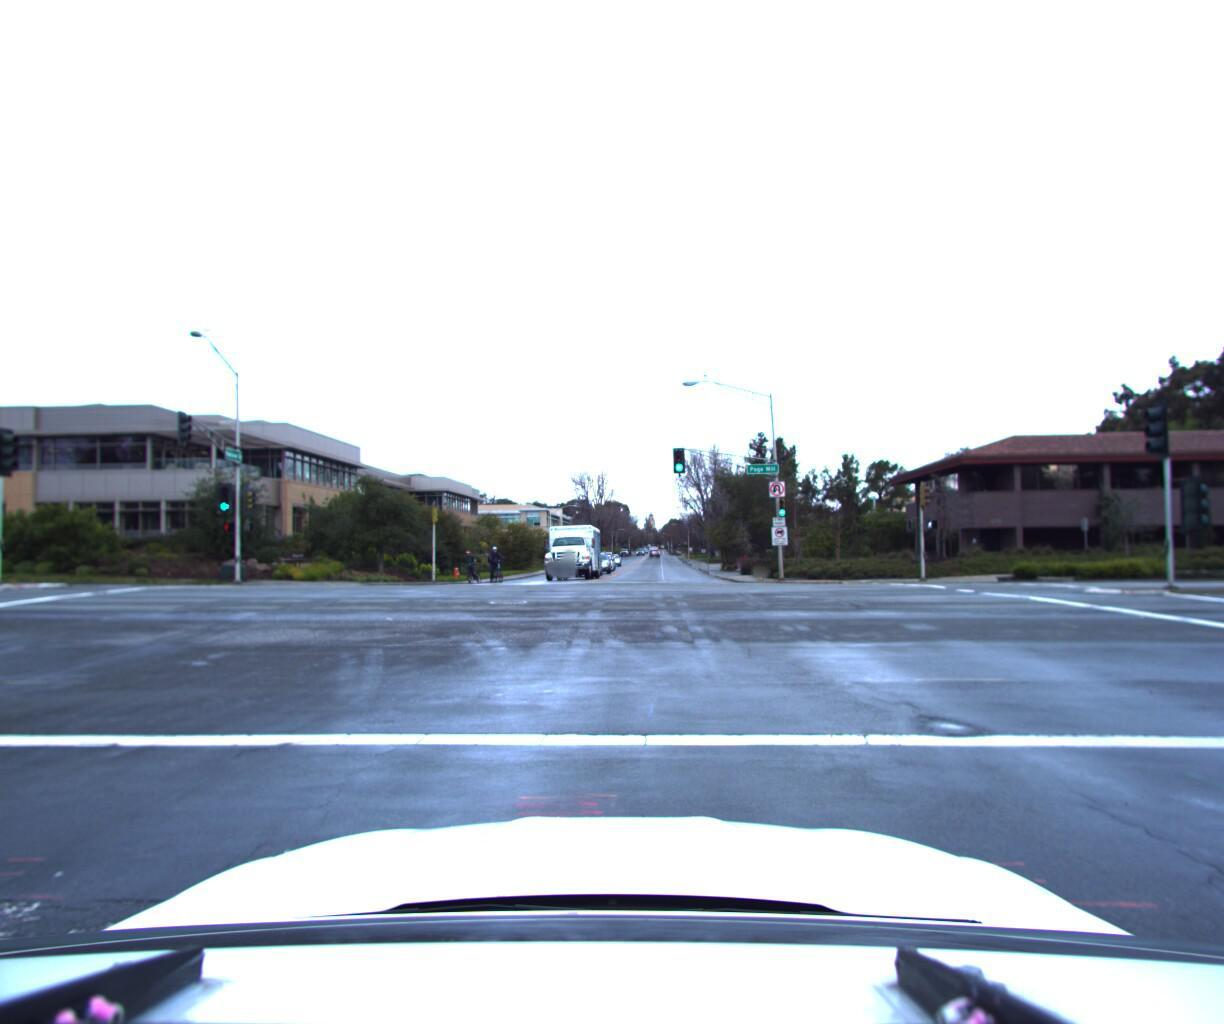bicycle: (461, 547, 492, 586), (489, 546, 507, 584)
car: (589, 550, 619, 574)
truck: (540, 519, 611, 583)
